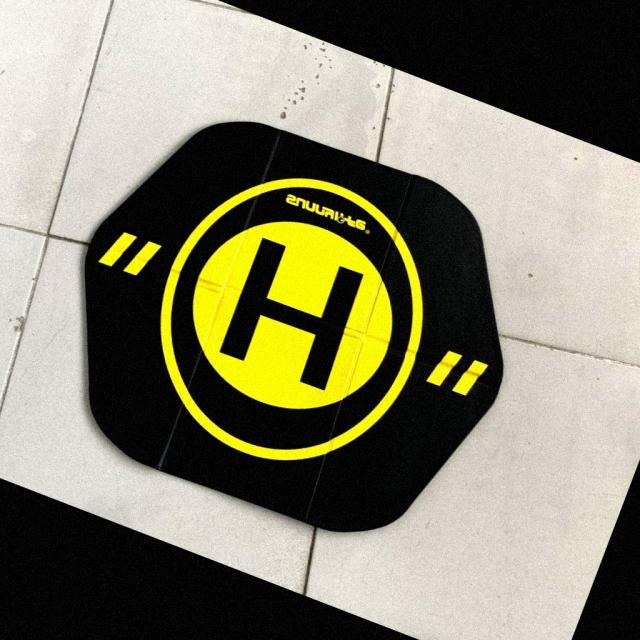helipad: (154, 170, 426, 466)
